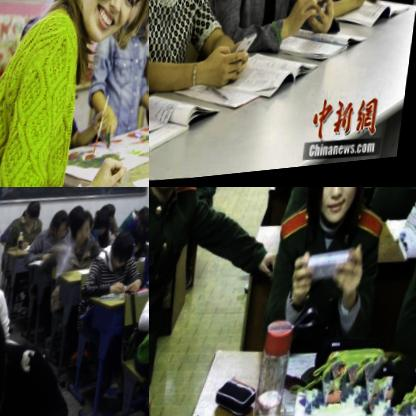head: (304, 187, 375, 238), (81, 0, 149, 43), (0, 299, 15, 399), (113, 233, 140, 275), (74, 215, 97, 250), (51, 211, 75, 243), (96, 212, 115, 244), (25, 201, 44, 232), (131, 227, 149, 258), (104, 205, 120, 232), (135, 209, 149, 238), (72, 207, 88, 230)
